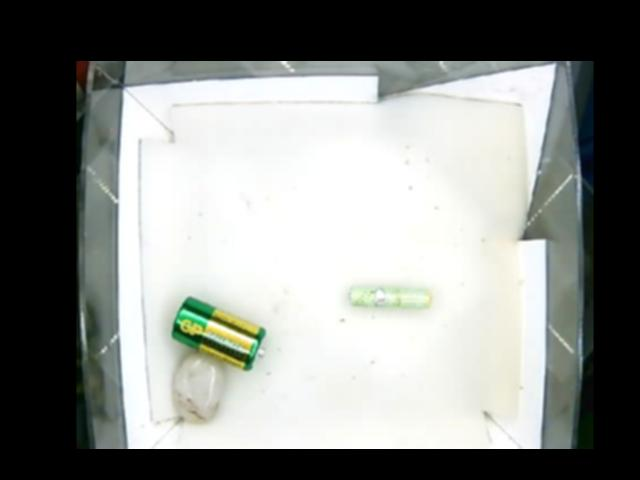Battery: (172, 297, 268, 368), (346, 286, 431, 309)
Pebble: (170, 351, 225, 423)
